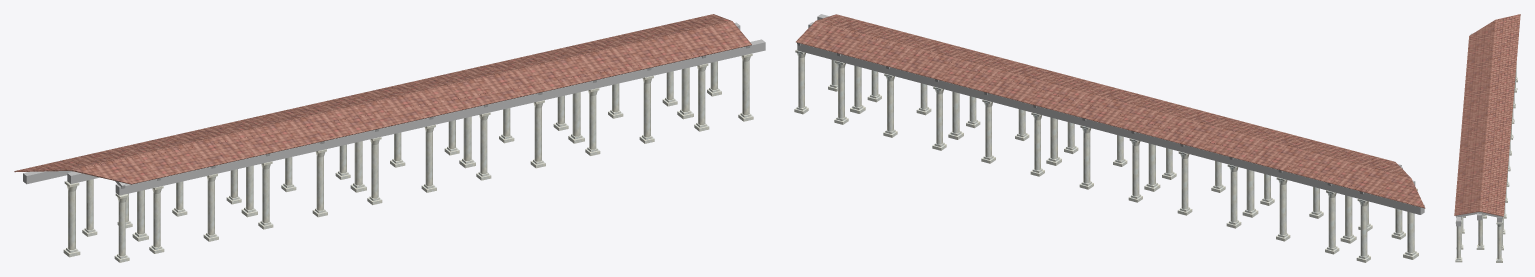
The model's file is wood03.fbx.
3 renders of one model, left to right at view 1: azimuth 30°, elevation 25°; view 2: azimuth 150°, elevation 25°; view 3: azimuth 270°, elevation 25°, orthographic. The views are drawn at different scales.
Parts seen in each view (by area): view 1: rooftiles_2, wood26_58, white_marble_182, white_marble_184, white_marble_241, white_marble_235, white_marble_215, white_marble_195, white_marble_221, white_marble_211, white_marble_201, white_marble_231 (+4 smaller); view 2: rooftiles_2, wood26_83, white_marble_237, white_marble_233, white_marble_243, white_marble_227, white_marble_217, white_marble_223, white_marble_180, white_marble_207, white_marble_213, white_marble_203 (+4 smaller); view 3: rooftiles_2, white_marble_187, white_marble_185, white_marble_190, wood26_59, wood26_60, wood26_58.
Boxes of the visible parts, x1,y1,x2,y2 form: rooftiles_2: (14,14,751,184); wood26_58: (115,39,765,195); white_marble_182: (64,181,79,249); white_marble_184: (115,193,128,256); white_marble_241: (152,186,163,247); white_marble_235: (206,173,217,235); white_marble_215: (424,124,435,186); white_marble_195: (642,75,653,137); white_marble_221: (370,137,381,198); white_marble_211: (479,112,490,173); white_marble_201: (588,88,599,149); white_marble_231: (261,161,272,222); rooftiles_2: (796,14,1425,208); wood26_83: (797,44,1424,214); white_marble_237: (1276,177,1287,235); white_marble_233: (1227,164,1238,222); white_marble_243: (1326,190,1336,248); white_marble_227: (1178,151,1189,209); white_marble_217: (1080,125,1091,183); white_marble_223: (1129,138,1140,196); white_marble_180: (1357,198,1368,256); white_marble_207: (982,99,992,157); white_marble_213: (1031,112,1041,170); white_marble_203: (933,86,943,144); rooftiles_2: (1454,14,1520,216); white_marble_187: (1496,220,1502,259); white_marble_185: (1455,220,1461,258); white_marble_190: (1478,214,1482,245); wood26_59: (1455,212,1479,217); wood26_60: (1479,212,1502,218); wood26_58: (1456,216,1461,226).
Bounding box in the file's own units: 2681 × 309 × 365.
